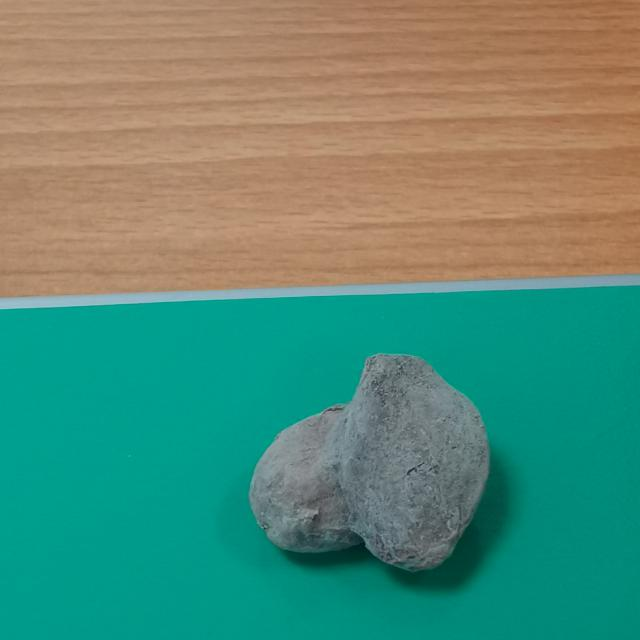Agglomerated_cocoabeans: (162, 321, 556, 611)
